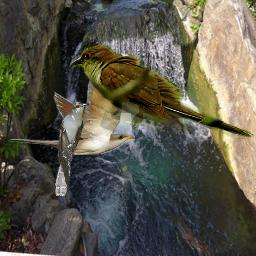Cuckoo: (69, 43, 254, 139), (9, 67, 135, 155), (54, 101, 90, 196)
